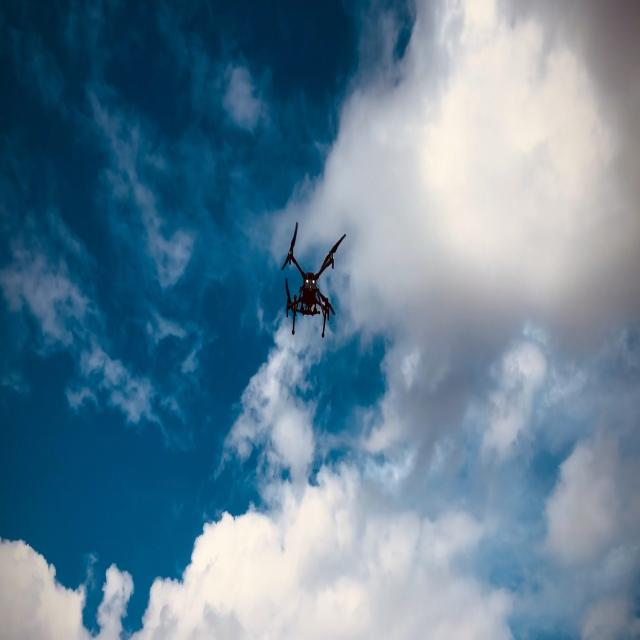drone: (281, 220, 346, 338)
